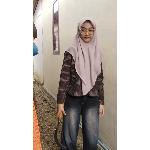Celurit: (46, 103, 80, 147)
